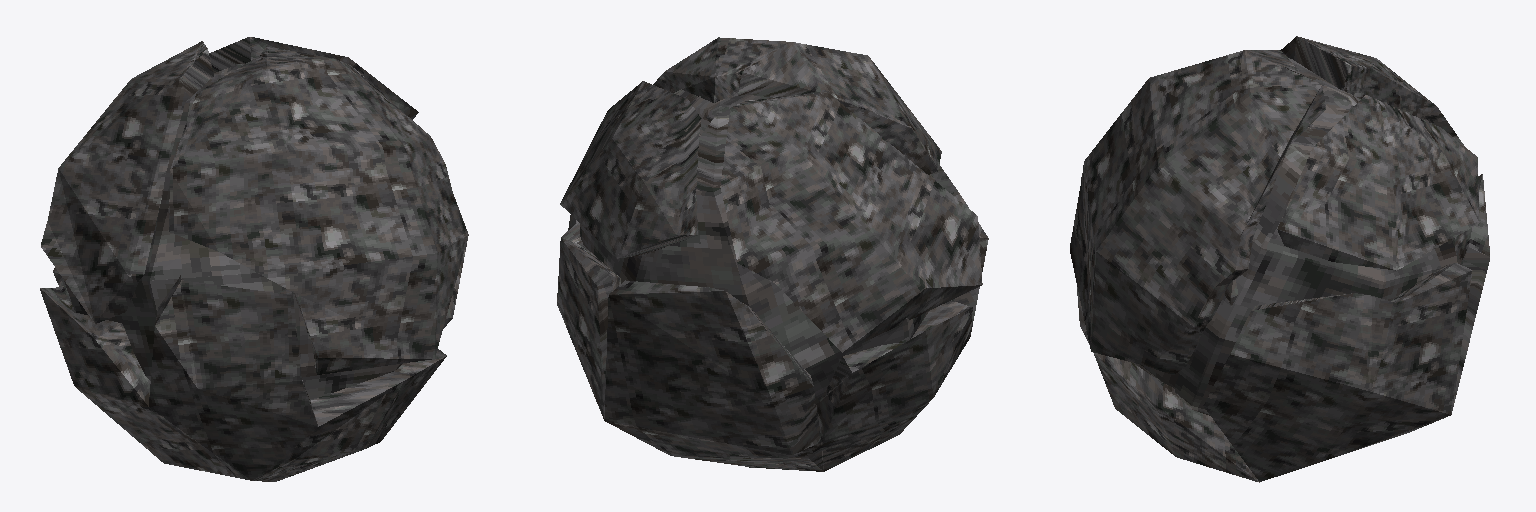
3 views of the same model, side by side, from view 1: azimuth 30°, elevation 25°; view 2: azimuth 150°, elevation 25°; view 3: azimuth 270°, elevation 25° (orthographic).
Visible parts, largest first — view 1: enemy; view 2: enemy; view 3: enemy.
Part boxes in pixels (left/top/right/bottom): enemy: left=40, top=37, right=468, bottom=481; enemy: left=557, top=37, right=988, bottom=471; enemy: left=1070, top=36, right=1489, bottom=482.
Bounding box in the file's own units: 27.18 × 28.05 × 26.39.
Materials: 3 (1 with a texture image).